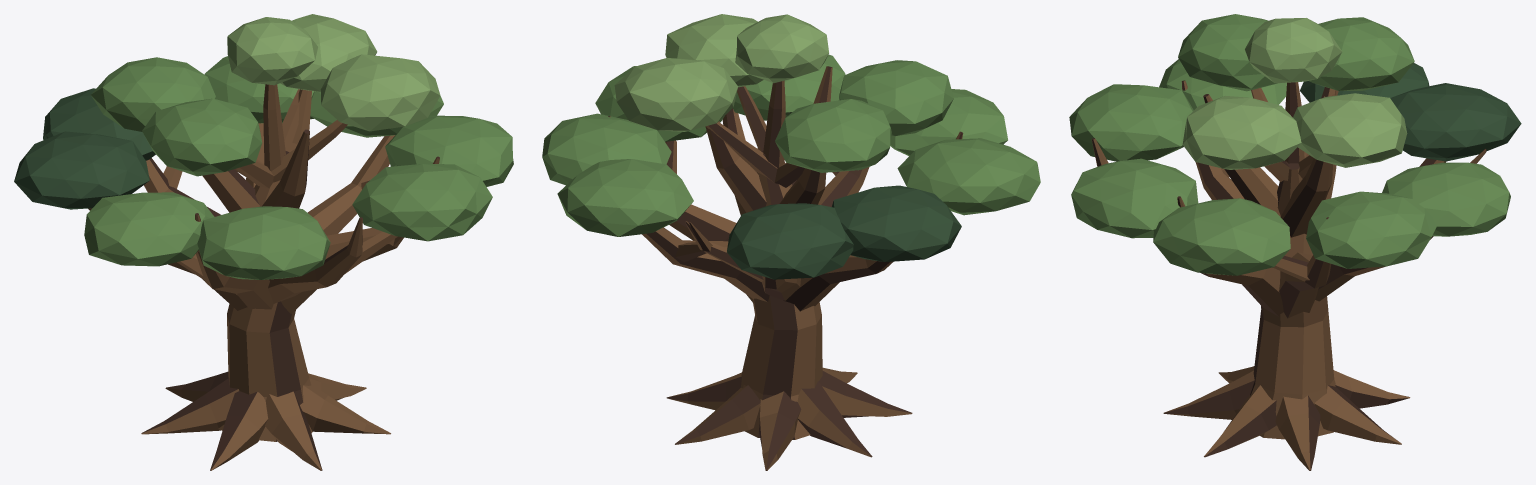
Rendered from great-oak.glb.
The picture shows the model from 3 angles, left to right: view 1: azimuth 30°, elevation 25°; view 2: azimuth 150°, elevation 25°; view 3: azimuth 270°, elevation 25°; orthographic projection.
Parts seen in each view (by area): view 1: great_oak_canopy_mid, great_oak_canopy_light, great_oak_branches, great_oak_roots, great_oak_canopy_shadow, great_oak_trunk, great_oak_twigs; view 2: great_oak_canopy_mid, great_oak_canopy_light, great_oak_canopy_shadow, great_oak_branches, great_oak_roots, great_oak_trunk, great_oak_twigs; view 3: great_oak_canopy_mid, great_oak_canopy_light, great_oak_roots, great_oak_branches, great_oak_canopy_shadow, great_oak_trunk, great_oak_twigs.
Part boxes in pixels (x1,y1,x2,y2): great_oak_canopy_mid: (84, 56, 513, 279); great_oak_canopy_light: (227, 14, 440, 131); great_oak_branches: (88, 89, 439, 313); great_oak_roots: (141, 371, 390, 470); great_oak_canopy_shadow: (14, 88, 155, 209); great_oak_trunk: (218, 151, 312, 441); great_oak_twigs: (163, 84, 401, 279); great_oak_canopy_mid: (542, 54, 1040, 236); great_oak_canopy_light: (614, 14, 828, 131); great_oak_canopy_shadow: (727, 185, 961, 279); great_oak_branches: (608, 66, 963, 311); great_oak_roots: (666, 367, 912, 470); great_oak_trunk: (741, 151, 822, 439); great_oak_twigs: (665, 80, 839, 282); great_oak_canopy_mid: (1069, 14, 1510, 275); great_oak_canopy_light: (1182, 18, 1407, 169); great_oak_roots: (1163, 366, 1410, 470); great_oak_branches: (1091, 80, 1445, 318); great_oak_canopy_shadow: (1300, 63, 1521, 161); great_oak_trunk: (1250, 161, 1335, 439); great_oak_twigs: (1221, 82, 1486, 281).
Bounding box in the file's own units: 3.75 × 3.4 × 3.51.
